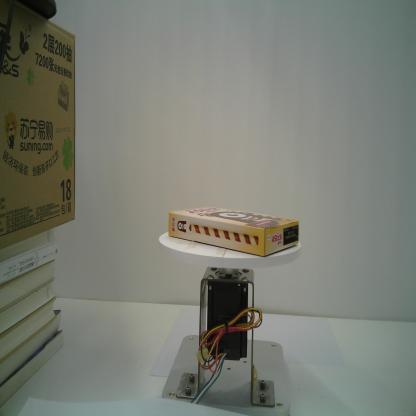Dessert: (166, 205, 300, 258)
